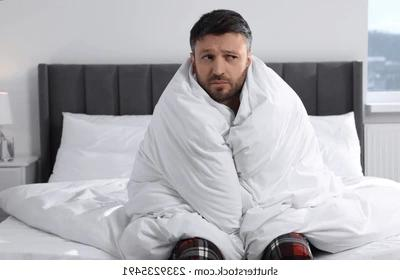blanket: (0, 51, 400, 260)
trousers: (168, 231, 313, 260)
